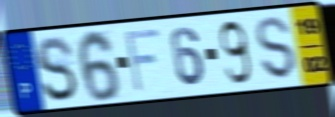6: (75, 27, 123, 104), (169, 26, 206, 89)
9: (217, 18, 253, 86)
F: (123, 26, 163, 96)
S: (34, 34, 80, 104), (254, 15, 299, 82)
